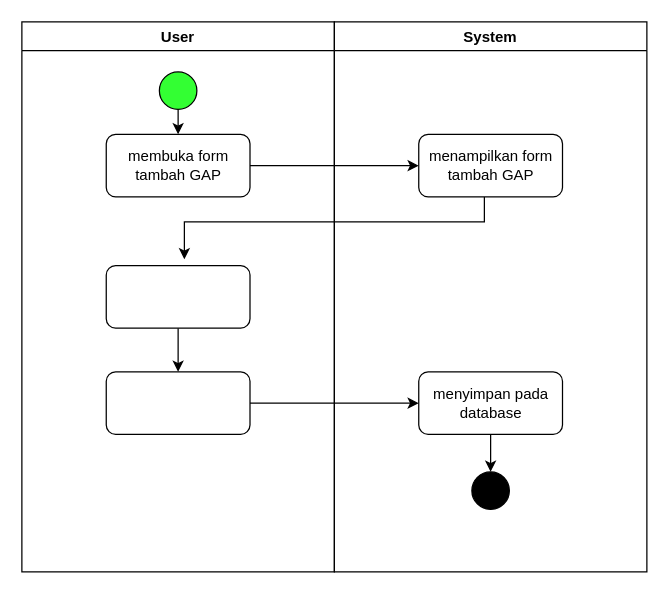
This 669x594 diagram has some shape labels left out. The shapes that lost their labels are listed below. From the top down, each one's box as (x1, y1, x2, y2) in pixels, then its label:
(105, 264, 250, 328): memasukkan nilai, bobot dan keterangan
(105, 371, 250, 434): menekan button simpan
